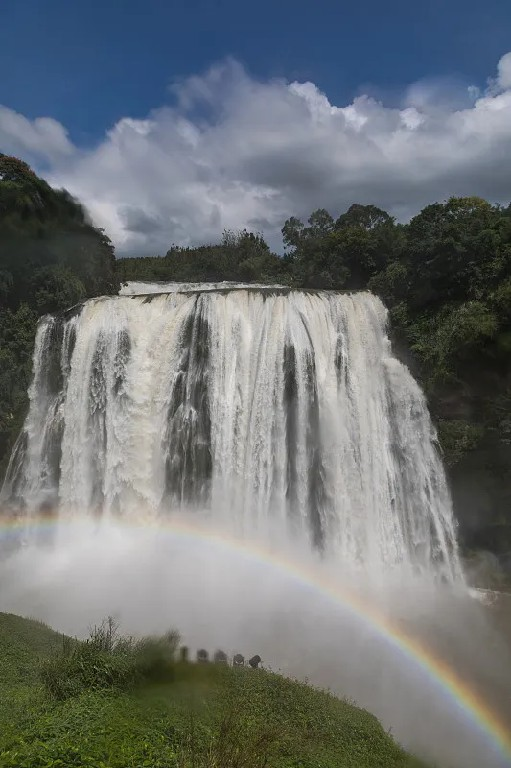Huangguoshu: (1, 281, 468, 586)
